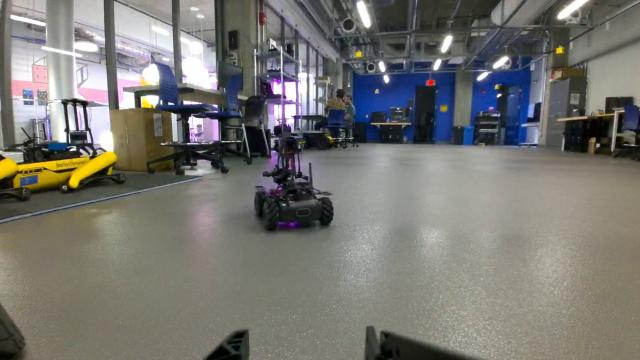robot: (251, 132, 338, 236)
